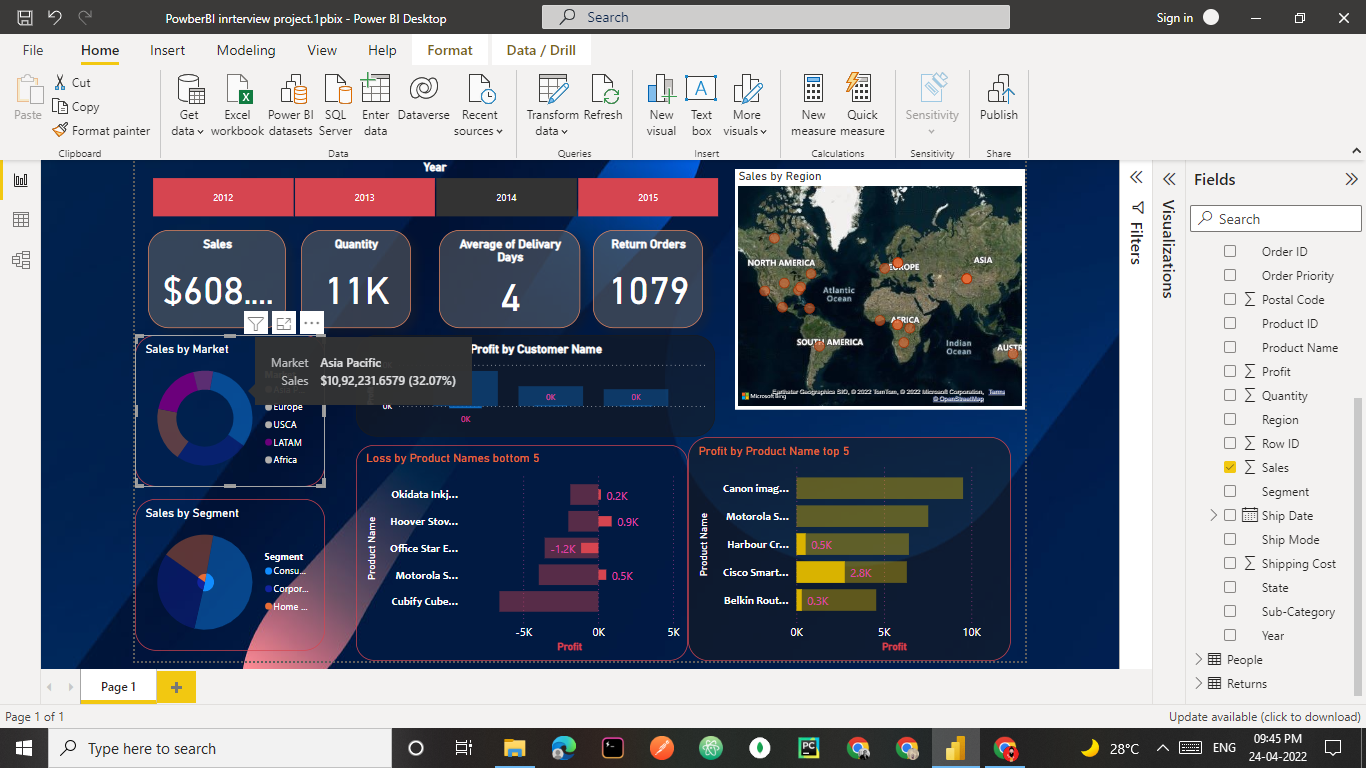

This screenshot's page, from the dashboard's own definition file:
{"tool":"powerbi","page":{"name":"Page 1","canvas":[1280,720],"ordinal":0},"visuals":[{"type":"card","title":"Sales","fields":{"Values":["Sum(Orders.Sales)"]},"box":[18.5,100.8,198.2,141.1],"z":0},{"type":"card","title":"Quantity","fields":{"Values":["Sum(Orders.Quantity)"]},"box":[238.5,100.8,157.9,141.1],"z":1000},{"type":"card","title":"Average of Delivary Days","fields":{"Values":["Avg(Orders.Delivary Days)"]},"box":[436.7,100.8,203.3,141.1],"z":2000},{"type":"slicer","title":"Year","fields":{"Values":["Orders.Year"]},"box":[0,0,862.3,87.7],"z":3000},{"type":"card","title":"Return Orders","fields":{"Values":["Sum(Returns.Return Orders)"]},"box":[658.5,100.8,157.9,141.1],"z":4000},{"type":"map","fields":{"Size":["Sum(Orders.Sales)"],"Category":["Returns.Region"]},"box":[861.7,13.4,418.3,346],"z":5000},{"type":"clusteredBarChart","title":"Profit by Product Name top 5","fields":{"Category":["Orders.Product Name"],"Y":["Sum(Orders.Profit)"]},"box":[764.6,398.1,464.2,321.9],"z":6000},{"type":"clusteredBarChart","title":"Loss by Product Names bottom 5","fields":{"Category":["Orders.Product Name"],"Y":["Sum(Orders.Profit)"]},"box":[317.6,409.6,477.1,310.4],"z":7000},{"type":"pieChart","fields":{"Category":["Orders.Segment"],"Y":["Sum(Orders.Sales)"]},"box":[0,487.2,273.1,218.4],"z":8000},{"type":"donutChart","fields":{"Category":["Orders.Market"],"Y":["Sum(Orders.Sales)"]},"box":[0,251.5,273.1,218.4],"z":9000},{"type":"columnChart","fields":{"Category":["Orders.Customer Name"],"Y":["Sum(Orders.Profit)"]},"box":[317.5,252,515.7,146.1],"z":10000}]}

Visuals, with their boxes on the page's 1280x720 design canvas (x1, y1, x2, y2). These are canvas units, not pixel positions in the 1366x768 screenshot, which may show the page scaled, cropped or inside an application window:
"Sales" card: 18/101/217/242
"Quantity" card: 238/101/396/242
"Average of Delivary Days" card: 437/101/640/242
"Year" slicer: 0/0/862/88
"Return Orders" card: 658/101/816/242
map - Sum(Orders.Sales) x Returns.Region: 862/13/1280/359
"Profit by Product Name top 5" clusteredBarChart: 765/398/1229/720
"Loss by Product Names bottom 5" clusteredBarChart: 318/410/795/720
pieChart - Orders.Segment x Sum(Orders.Sales): 0/487/273/706
donutChart - Orders.Market x Sum(Orders.Sales): 0/252/273/470
columnChart - Orders.Customer Name x Sum(Orders.Profit): 318/252/833/398
